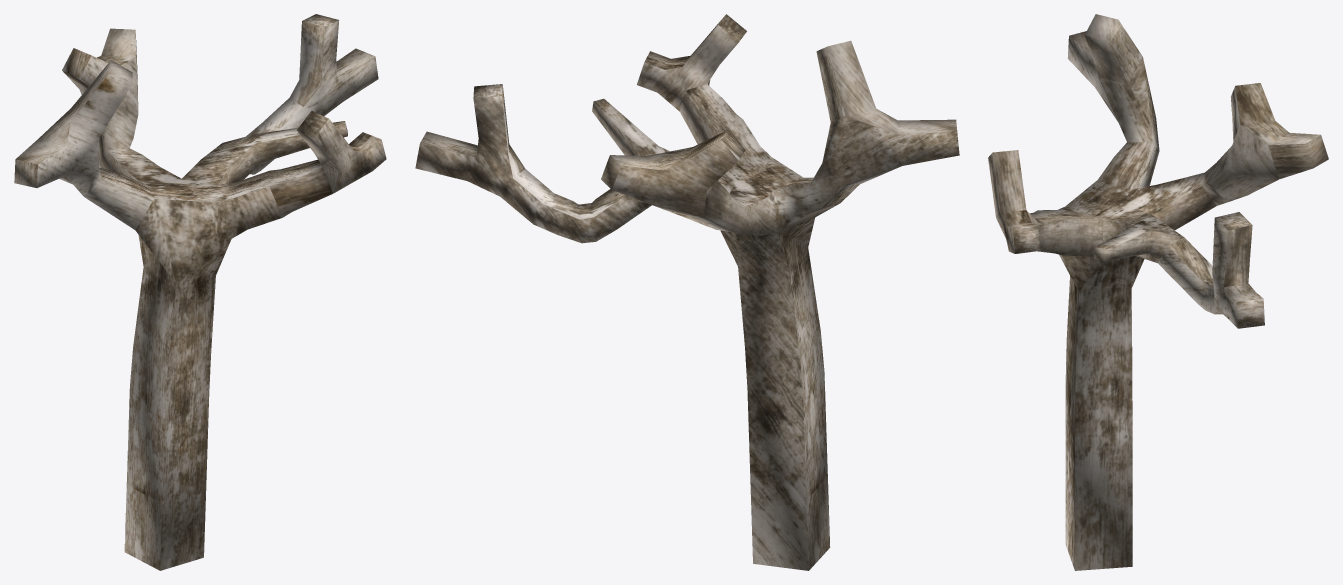
The model's file is DryDesertTree.fbx.
3 views of the same model, side by side, from view 1: azimuth 30°, elevation 25°; view 2: azimuth 150°, elevation 25°; view 3: azimuth 270°, elevation 25° (orthographic). The views are drawn at different scales.
Parts seen in each view (by area): view 1: DryDesertTree; view 2: DryDesertTree; view 3: DryDesertTree.
Part boxes in pixels (left/top/right/bottom): DryDesertTree: left=14, top=14, right=386, bottom=570; DryDesertTree: left=415, top=14, right=959, bottom=570; DryDesertTree: left=988, top=14, right=1328, bottom=570.
Bounding box in the file's own units: 3.89 × 4.27 × 2.56.
